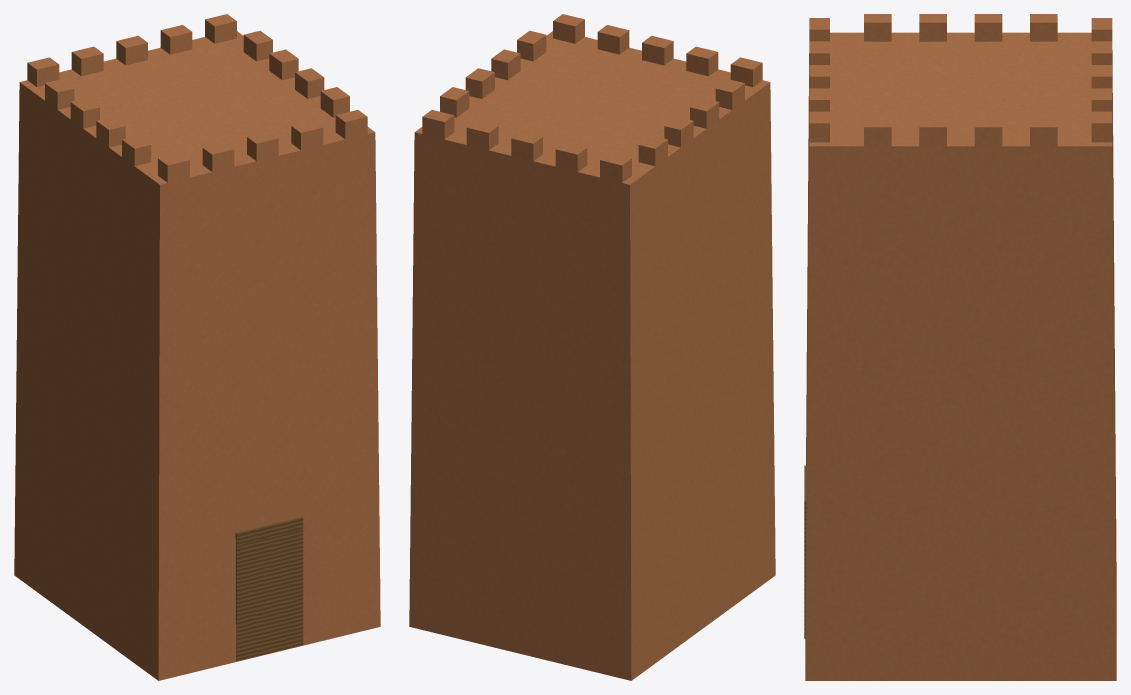
The model's file is SM_Souq_Warehouse_W4D45_Crenel.fbx.
3 views of the same model, side by side, from view 1: azimuth 30°, elevation 25°; view 2: azimuth 150°, elevation 25°; view 3: azimuth 270°, elevation 25° (orthographic). The views are drawn at different scales.
Visible parts, largest first — view 1: SM_Souq_Warehouse_W4D45_Crenel; view 2: SM_Souq_Warehouse_W4D45_Crenel; view 3: SM_Souq_Warehouse_W4D45_Crenel.
Part boxes in pixels (x1,y1,x2,y2): SM_Souq_Warehouse_W4D45_Crenel: [14, 14, 380, 680]; SM_Souq_Warehouse_W4D45_Crenel: [409, 14, 775, 680]; SM_Souq_Warehouse_W4D45_Crenel: [804, 14, 1116, 680].
Size of the model in its own units: 4 by 8.8 by 4.51.
Materials: 2 (2 with a texture image).
